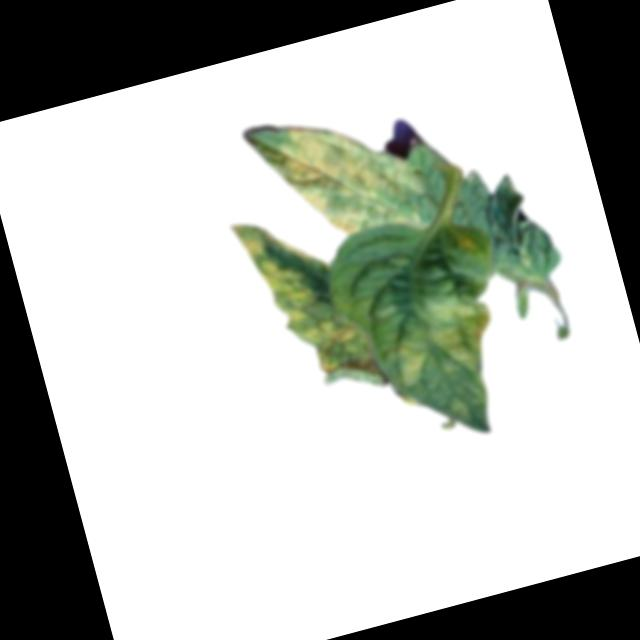Leaf_Mold: (229, 197, 382, 410), (250, 97, 427, 266), (418, 284, 504, 382), (377, 324, 436, 394)
